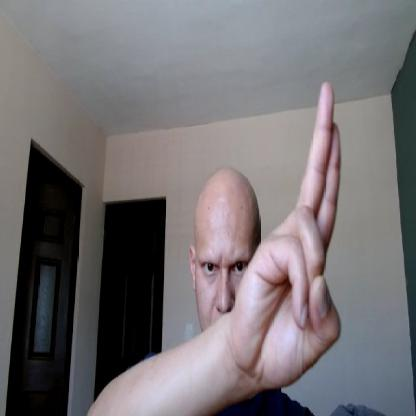U: (234, 79, 343, 388)
